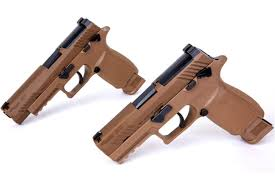gun: (93, 40, 274, 172), (1, 17, 149, 128)
